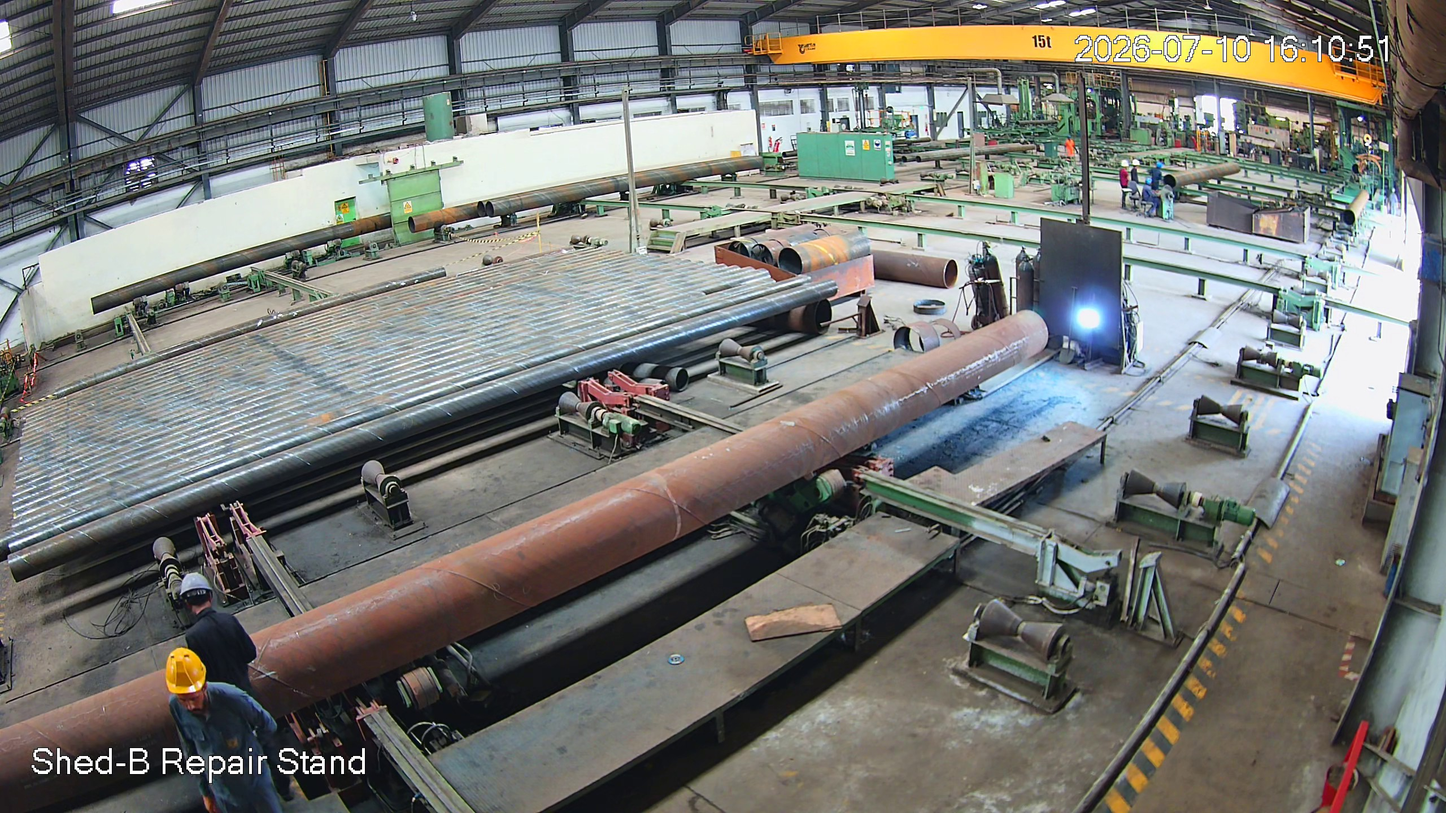Helmet: (148, 638, 208, 715), (169, 563, 222, 631)
Person: (156, 645, 277, 813), (175, 568, 264, 709)
